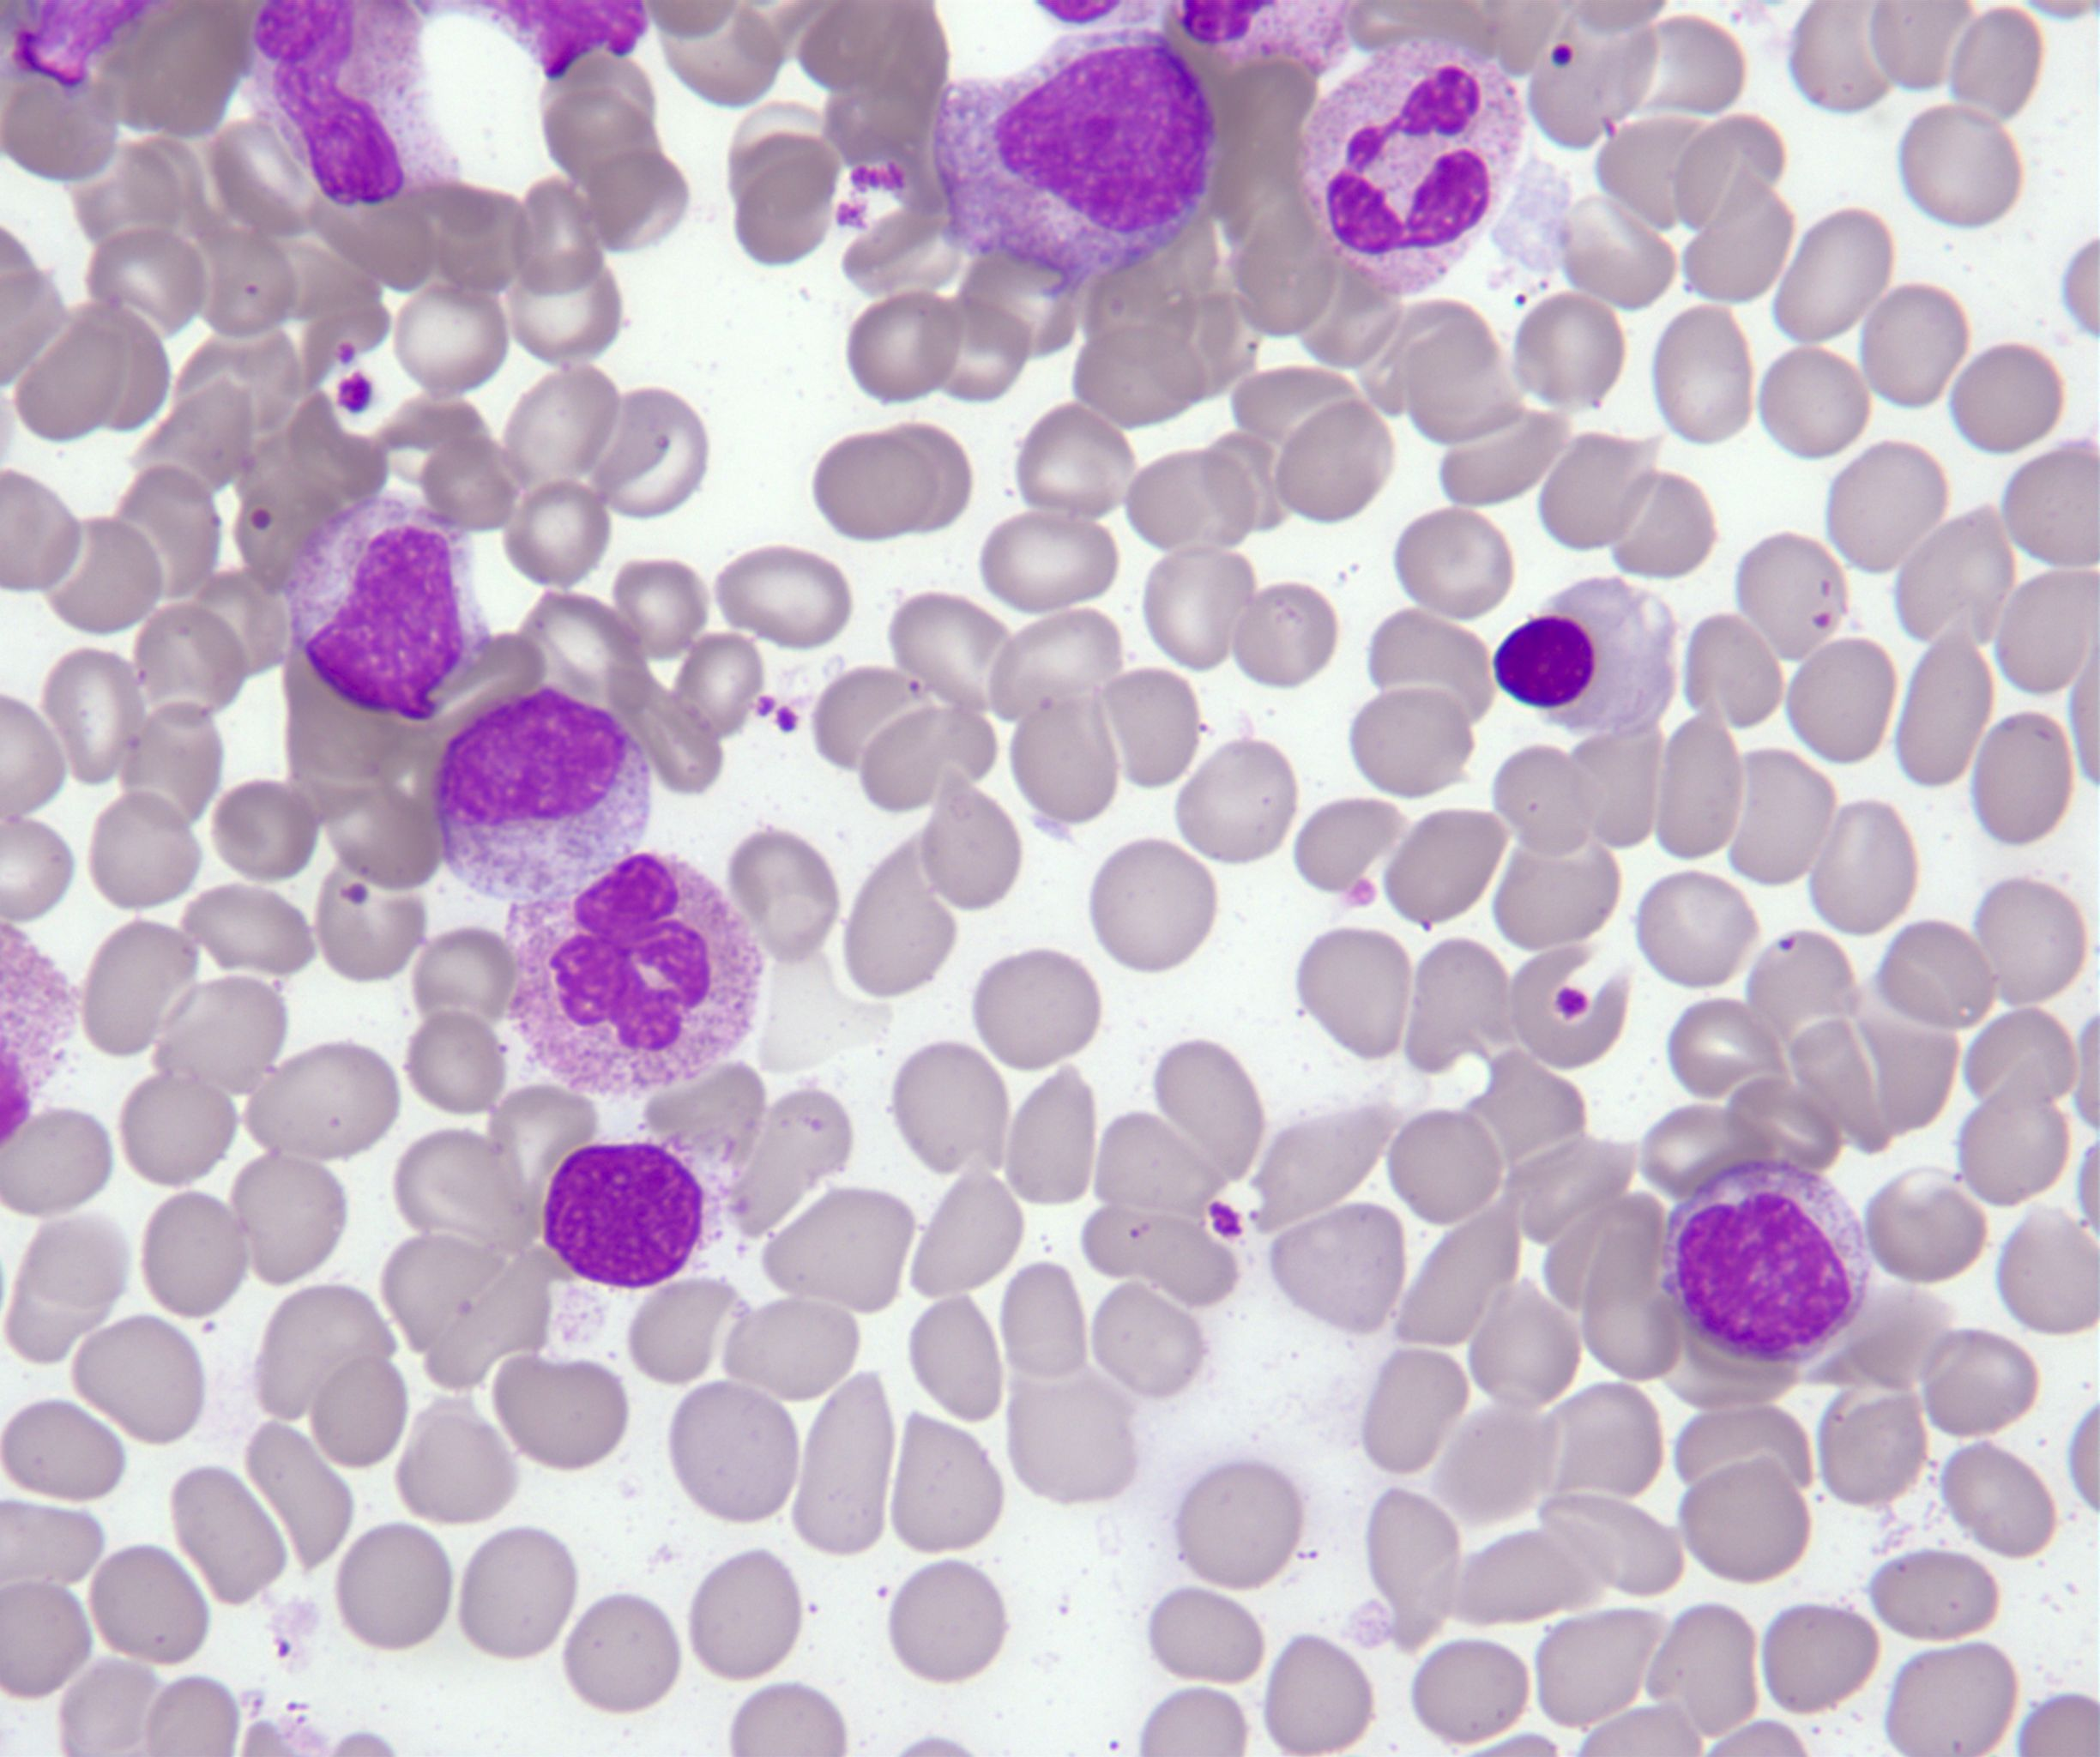24: (1484, 565, 1676, 736)
3: (924, 24, 1221, 284), (427, 684, 656, 911), (1652, 1153, 1877, 1371)
4: (277, 489, 488, 724), (246, 0, 460, 209)
6: (501, 846, 769, 1104), (1289, 31, 1530, 300)
x: (537, 1136, 710, 1296)
